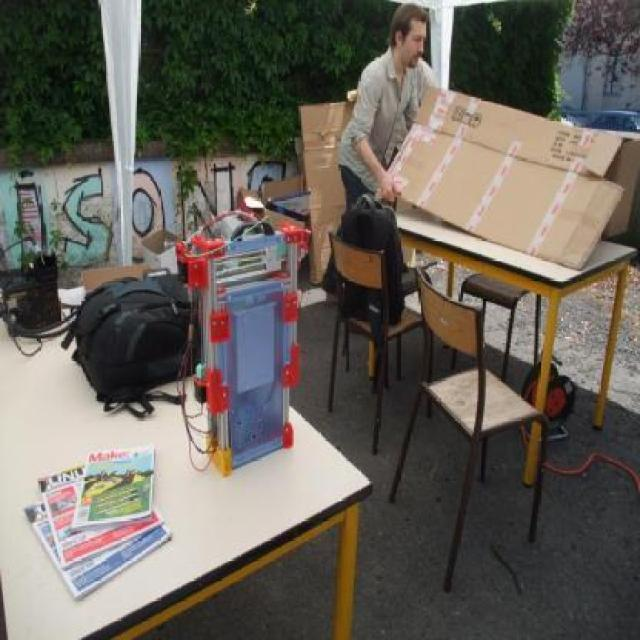backpack: (66, 270, 197, 416), (329, 192, 408, 334)
